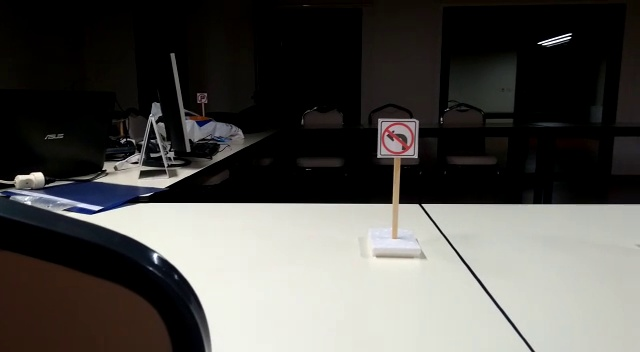sola_donulmez: (379, 118, 422, 158)
